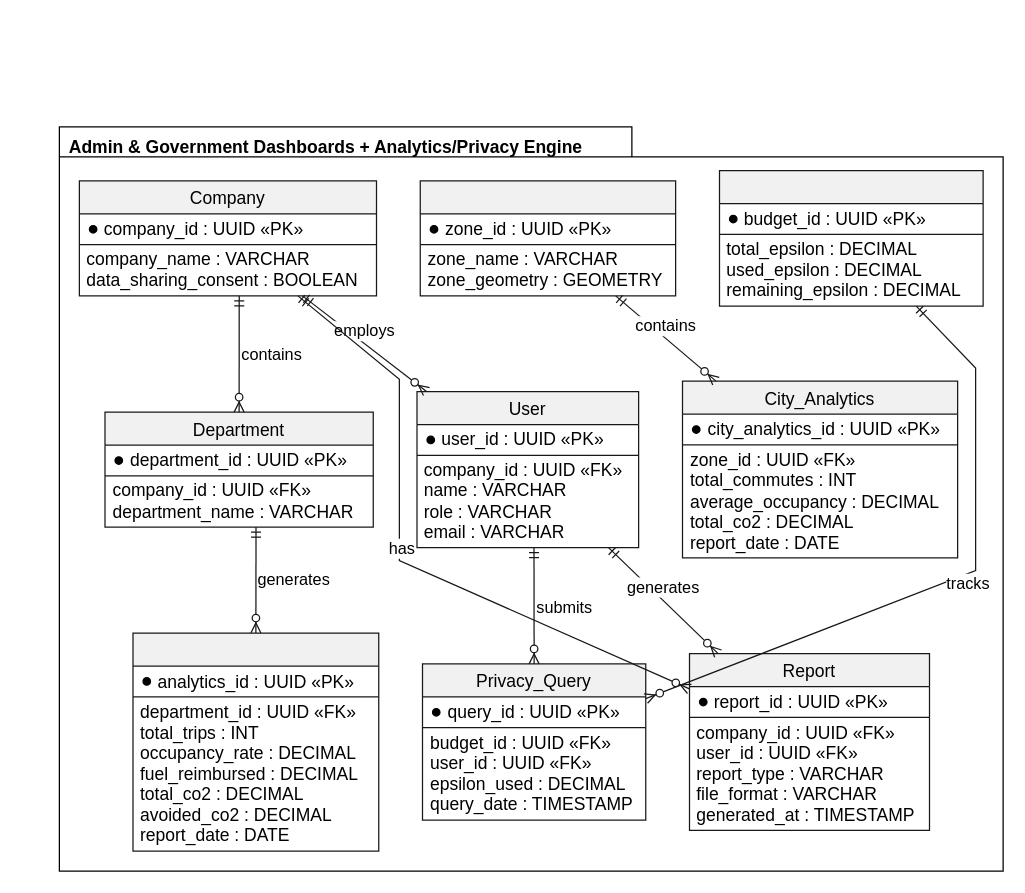
Some shapes in this 1025 by 893 pixel diagram are drawn without their labels. The box of each missing label's shape, as (x1, y1, x2, y2) in pixels:
City_Zone: (419, 180, 676, 296)
Department_Analytics: (132, 632, 379, 851)
Privacy_Budget: (718, 169, 983, 306)
